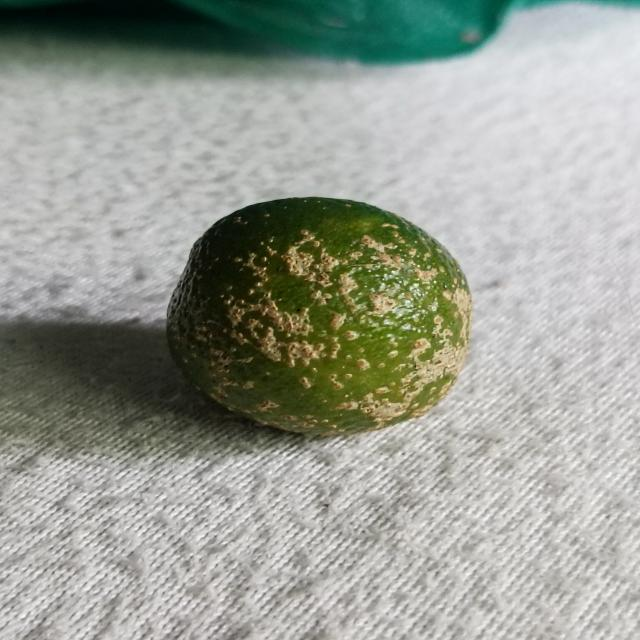scab: (158, 188, 476, 438)
